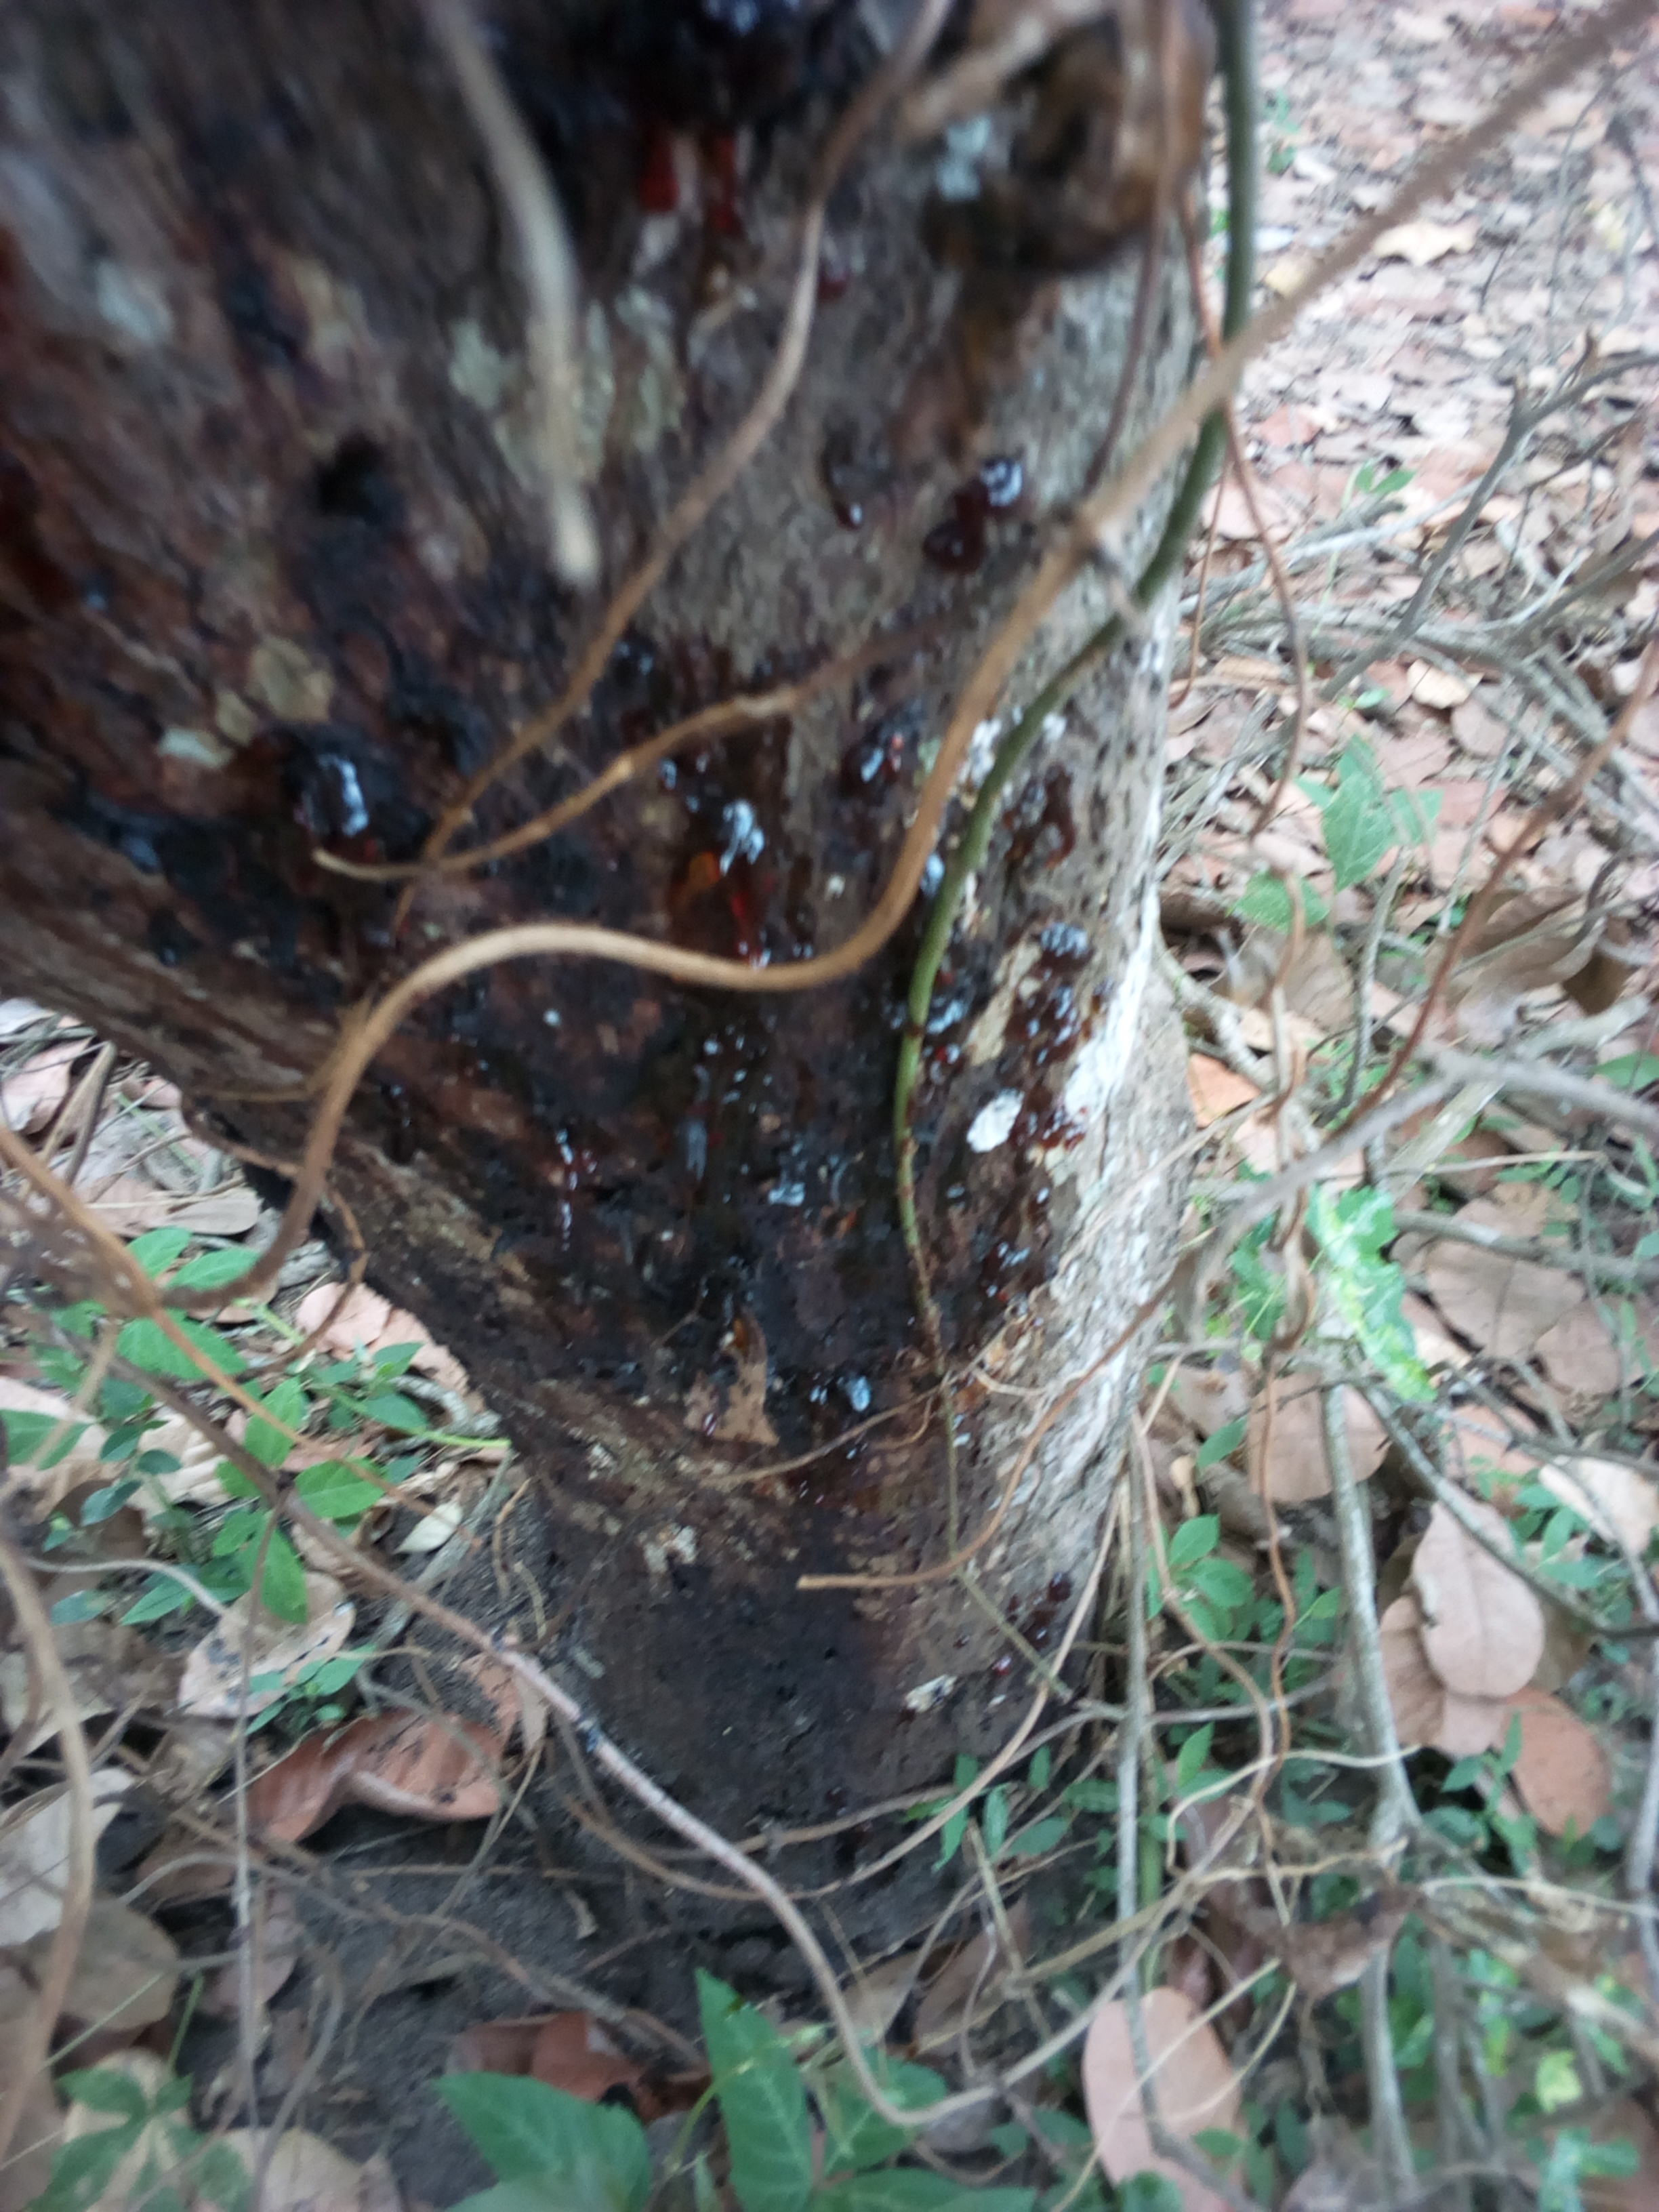Gommose: (234, 408, 1155, 1458)
